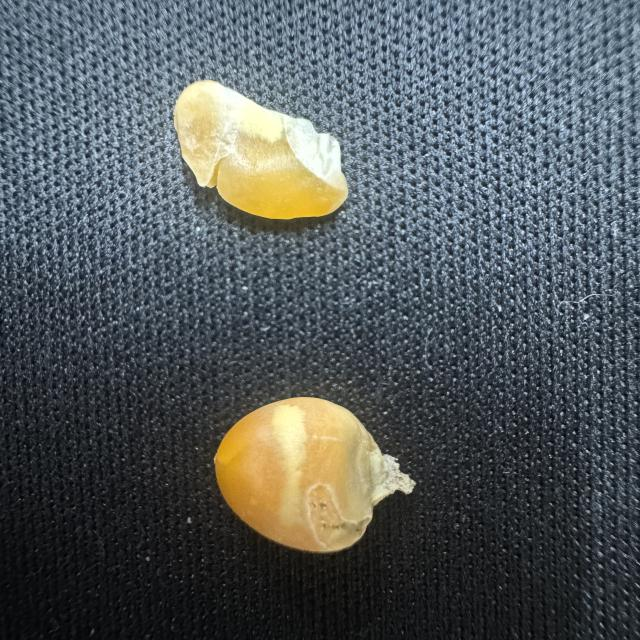Bad-Seed: (207, 393, 426, 558), (168, 76, 354, 226)
